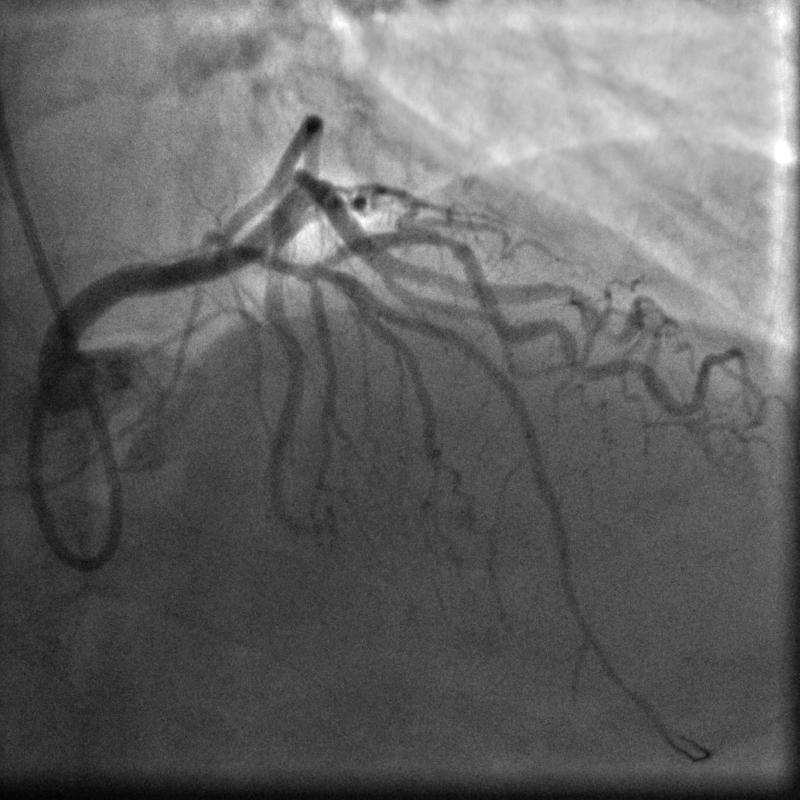Stenosis: (425, 224, 464, 261)
